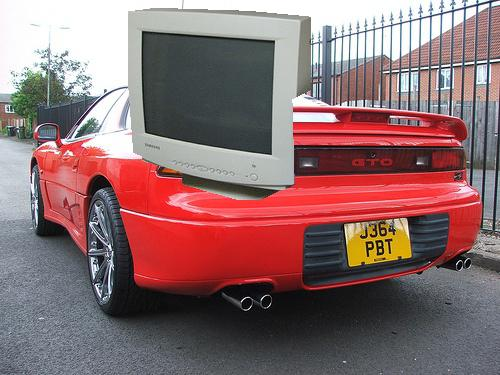tampered: (129, 9, 311, 200)
